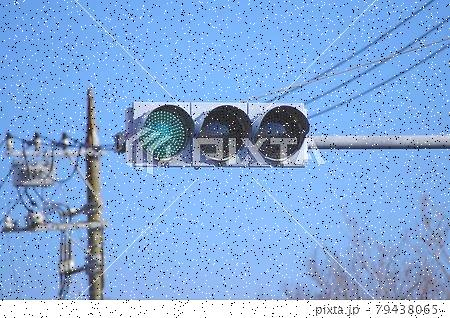cars: (131, 101, 308, 165)
